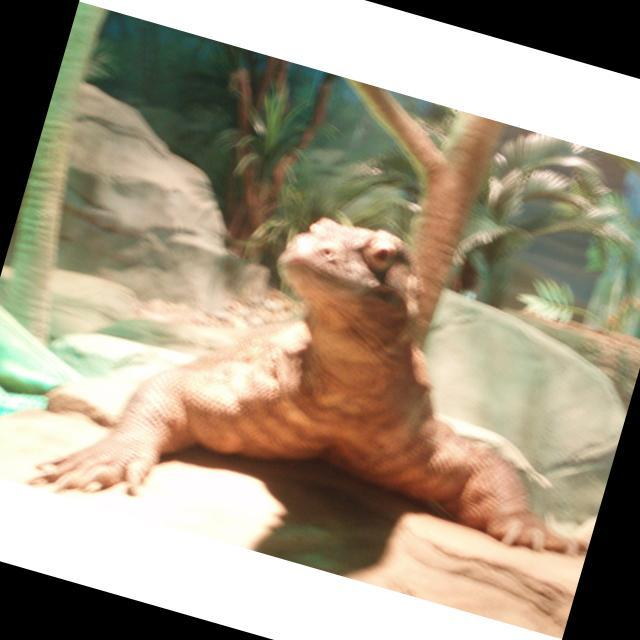KomodoDragon: (18, 149, 640, 632)
